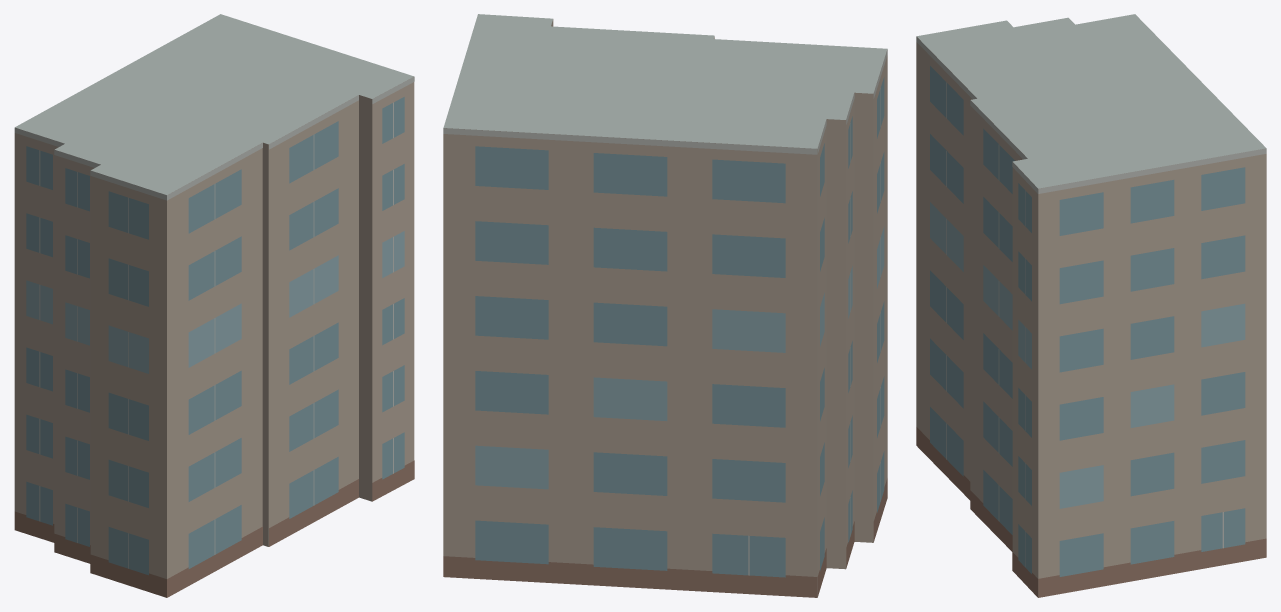
File: survey-upis-33013116.glb
The picture shows the model from 3 angles, left to right: view 1: azimuth 30°, elevation 25°; view 2: azimuth 150°, elevation 25°; view 3: azimuth 270°, elevation 25°; orthographic projection. The views are drawn at different scales.
Parts seen in each view (by area): view 1: survey-upis-33013116.tmp; view 2: survey-upis-33013116.tmp; view 3: survey-upis-33013116.tmp.
Boxes of the visible parts, x1=… form: survey-upis-33013116.tmp: x1=14, y1=14, x2=414, y2=597; survey-upis-33013116.tmp: x1=443, y1=14, x2=887, y2=597; survey-upis-33013116.tmp: x1=916, y1=14, x2=1266, y2=597.
Bounding box in the file's own units: 16.76 × 18.3 × 14.2.
